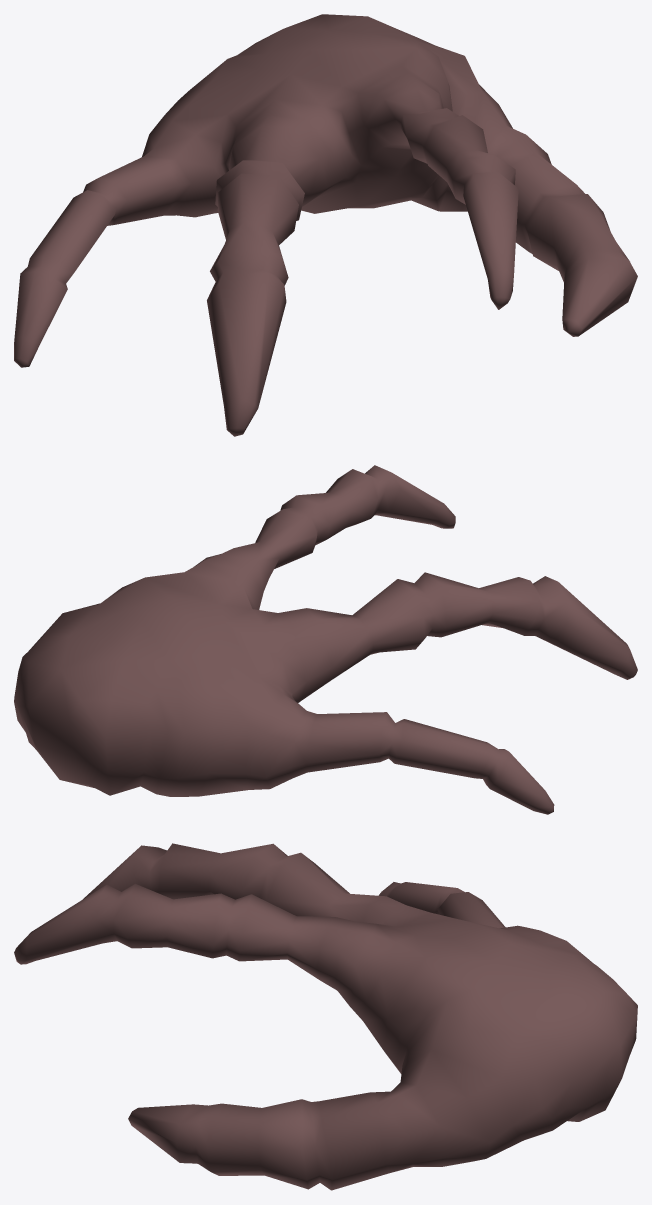
Rendered from SM_HumanSkeletonHand.FBX.
3 views of the same model, one above another, from view 1: azimuth 30°, elevation 25°; view 2: azimuth 150°, elevation 25°; view 3: azimuth 270°, elevation 25° (orthographic). The views are drawn at different scales.
Parts seen in each view (by area): view 1: SM_HumanSkeletonHand; view 2: SM_HumanSkeletonHand; view 3: SM_HumanSkeletonHand.
Part boxes in pixels (x1,y1,x2,y2): SM_HumanSkeletonHand: [14, 14, 637, 436]; SM_HumanSkeletonHand: [14, 465, 637, 814]; SM_HumanSkeletonHand: [14, 843, 637, 1190].
Size of the model in its own units: 35.41 by 13.74 by 36.48.
